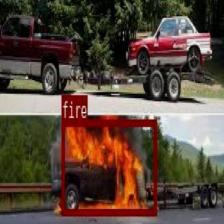fire: (61, 118, 156, 214)
